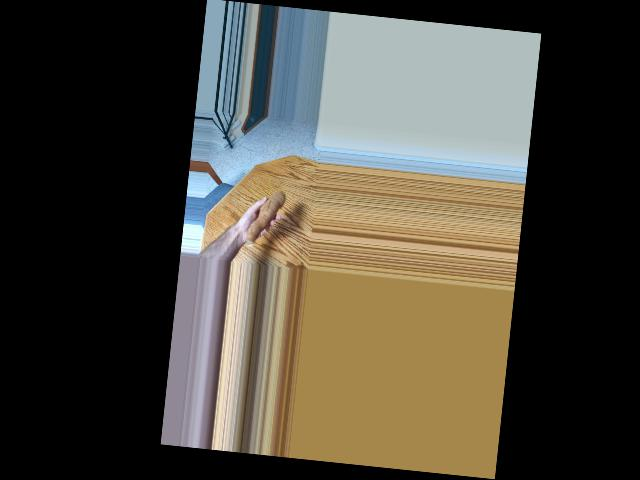sweet_potato: (240, 185, 286, 250)
